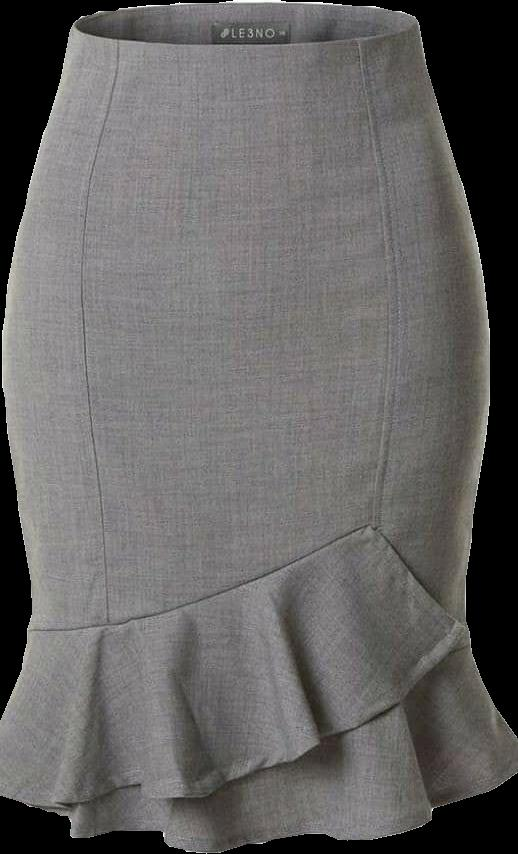Hemline: (0, 618, 475, 814), (57, 764, 517, 853)
Waistline: (23, 522, 471, 636), (66, 9, 418, 52)
